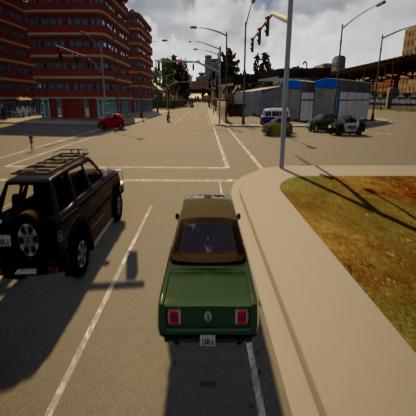Cars: (0, 129, 129, 321), (146, 172, 264, 359), (330, 114, 370, 143), (262, 111, 298, 143), (303, 110, 342, 136), (96, 104, 124, 135), (261, 100, 291, 124), (163, 104, 174, 127)
Pedestrian: (26, 124, 36, 151)
